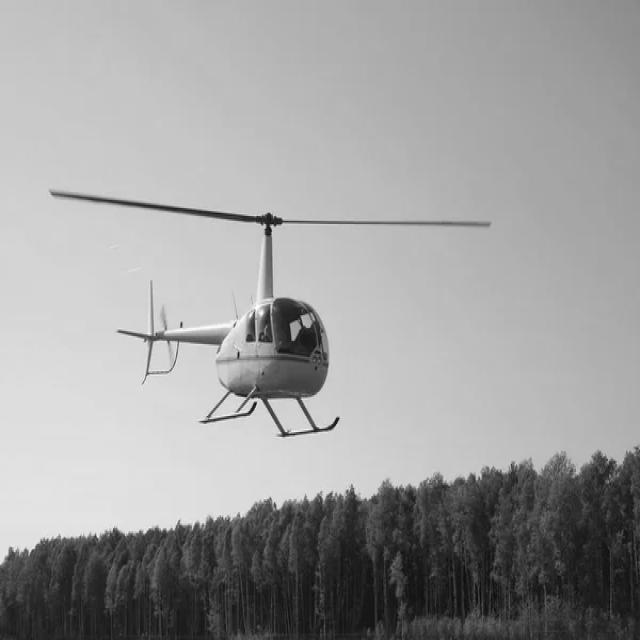Helicopter: (50, 192, 492, 438)
